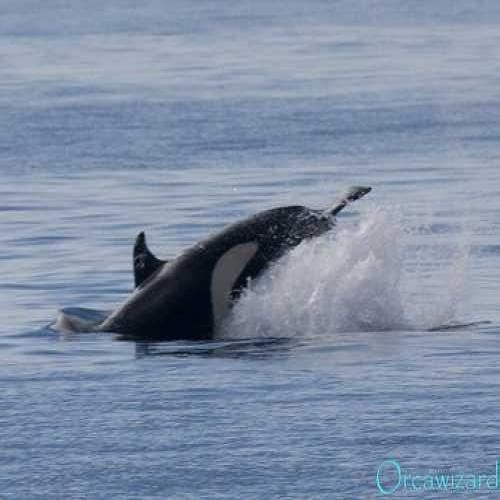killer_whale-endangered: (73, 159, 376, 384)
